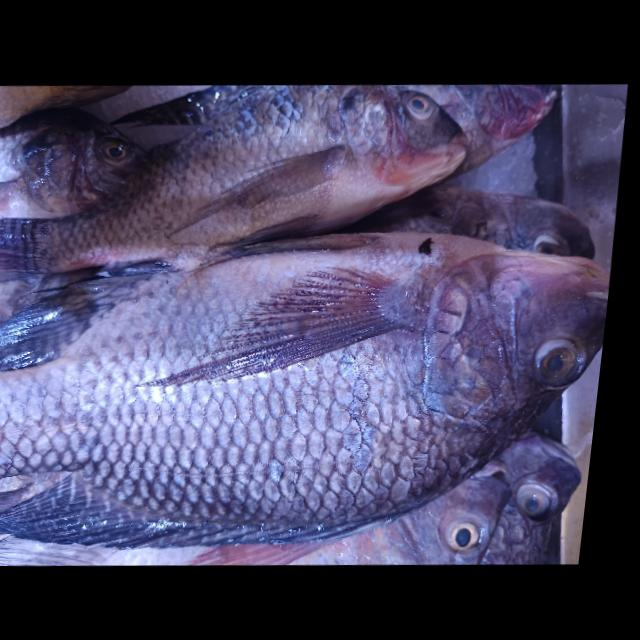Tilapia: (0, 220, 616, 556)
